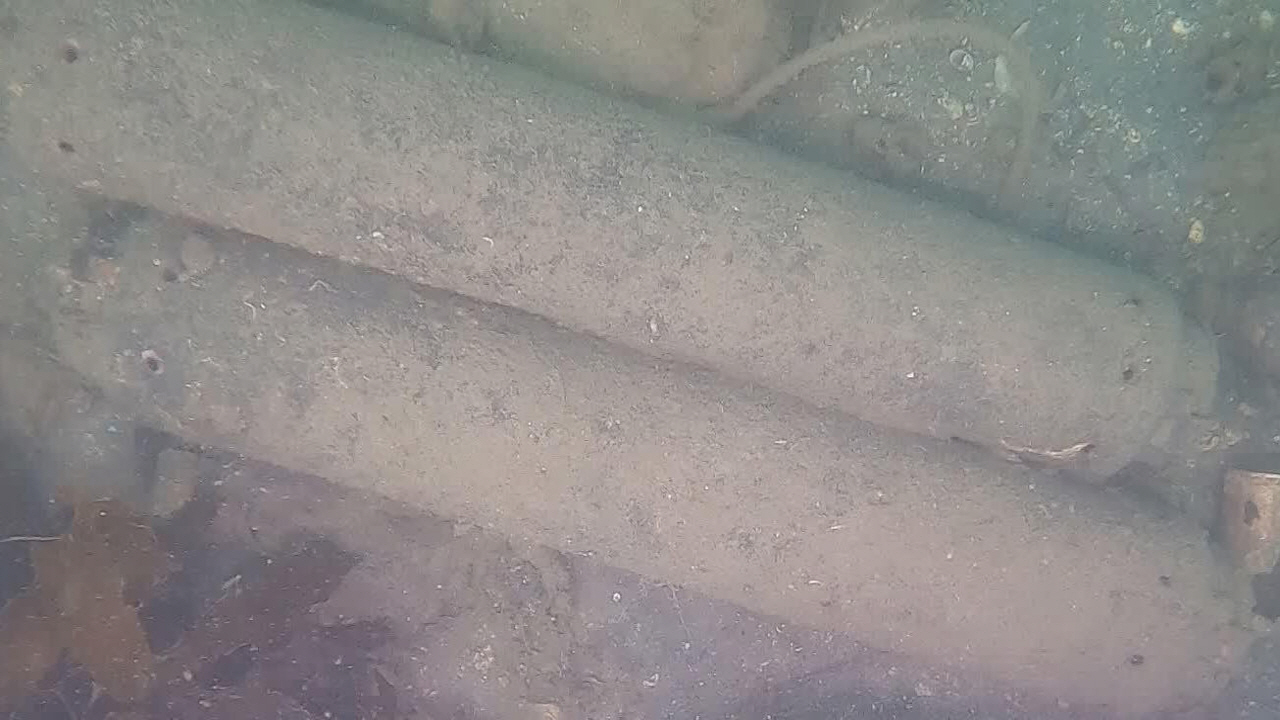eel fish trap: (45, 215, 1253, 720)
rope: (693, 18, 1042, 217)
